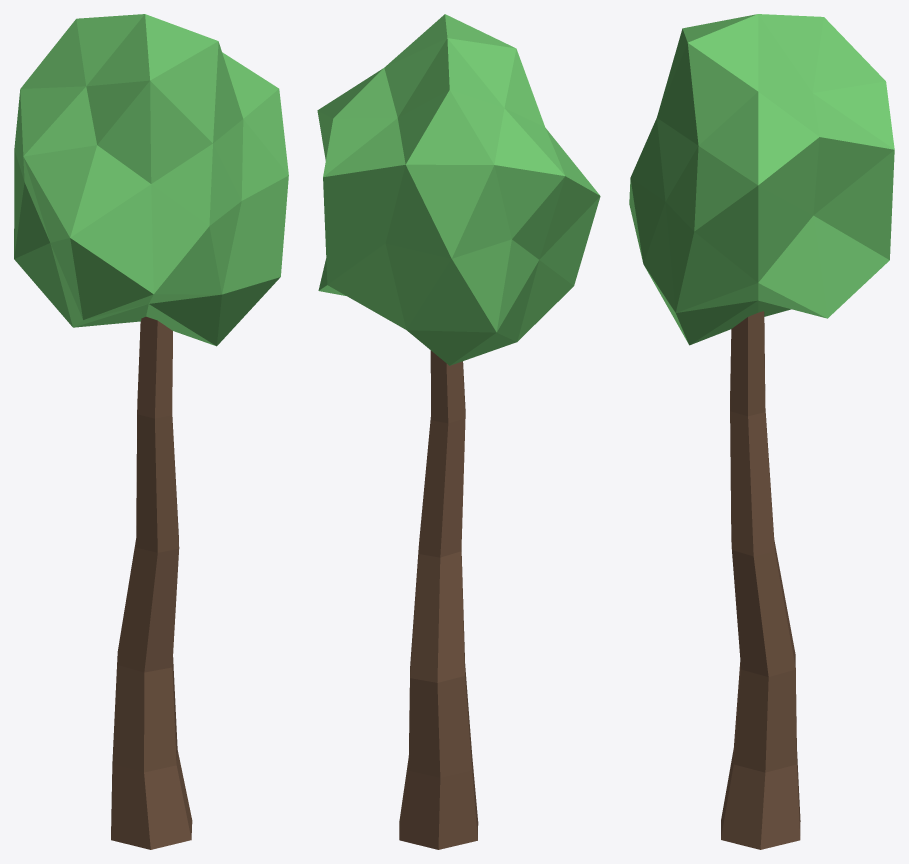
File: Arbre_Boule_2.fbx
3 renders of one model, left to right at view 1: azimuth 30°, elevation 25°; view 2: azimuth 150°, elevation 25°; view 3: azimuth 270°, elevation 25°, orthographic. The views are drawn at different scales.
Visible parts, largest first — view 1: pPlatonic1, pCylinder13; view 2: pPlatonic1, pCylinder13; view 3: pPlatonic1, pCylinder13.
Boxes of the visible parts, <box> form: pPlatonic1: <box>14,14,288,346</box>; pCylinder13: <box>111,316,192,849</box>; pPlatonic1: <box>317,14,600,365</box>; pCylinder13: <box>399,350,478,849</box>; pPlatonic1: <box>629,14,894,345</box>; pCylinder13: <box>721,311,800,849</box>.
Bounding box in the file's own units: 2.57 × 7.86 × 2.33.
